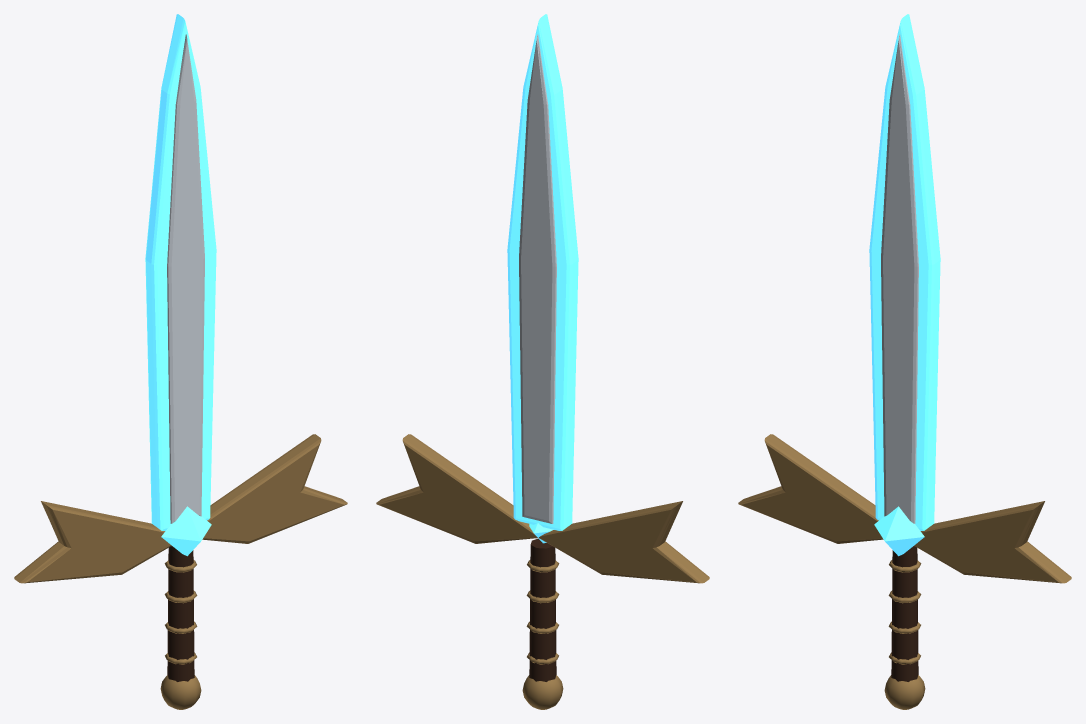
The model's file is sword_f3_7d92d183.glb.
3 renders of one model, left to right at view 1: azimuth 30°, elevation 25°; view 2: azimuth 150°, elevation 25°; view 3: azimuth 330°, elevation 25°, orthographic.
Visible parts, largest first — view 1: m4_ow80_, m0_gm130_, m1_ow80_, m3_ow80_, m2_gm160_; view 2: m4_ow80_, m0_gm130_, m1_ow80_, m3_ow80_; view 3: m4_ow80_, m0_gm130_, m1_ow80_, m3_ow80_, m2_gm160_.
Boxes of the visible parts, x1,y1,x2,y2 form: m4_ow80_: (14, 434, 347, 709); m0_gm130_: (145, 14, 216, 530); m1_ow80_: (167, 34, 204, 523); m3_ow80_: (167, 546, 194, 681); m2_gm160_: (161, 506, 211, 556); m4_ow80_: (376, 434, 709, 709); m0_gm130_: (507, 14, 578, 530); m1_ow80_: (519, 34, 556, 523); m3_ow80_: (529, 538, 556, 681); m4_ow80_: (738, 434, 1071, 709); m0_gm130_: (869, 14, 940, 530); m1_ow80_: (881, 34, 918, 523); m3_ow80_: (891, 546, 918, 681); m2_gm160_: (874, 506, 924, 556).
Bounding box in the file's own units: 1.03 × 2.08 × 0.1633.
